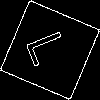L: (25, 25, 78, 68)
